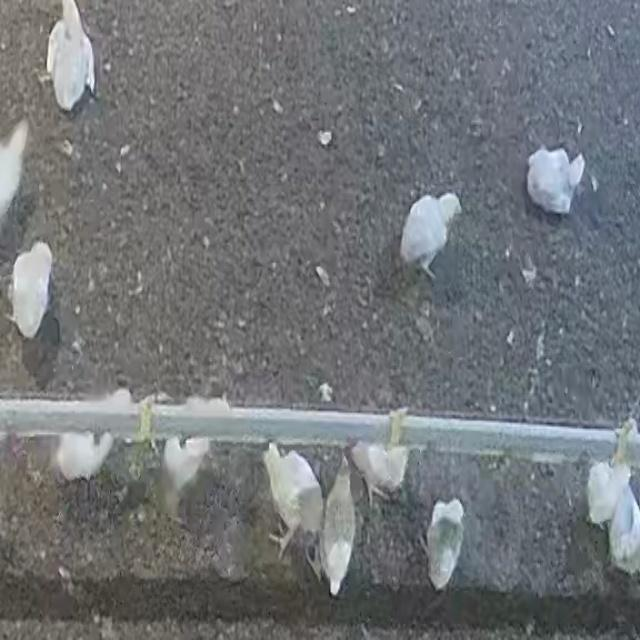chicken: (261, 444, 323, 564), (47, 1, 96, 113), (320, 453, 358, 596), (347, 427, 409, 509), (401, 193, 460, 278), (159, 433, 211, 523), (8, 242, 54, 340), (423, 498, 466, 593), (526, 147, 585, 216), (55, 431, 115, 489), (607, 479, 640, 576), (585, 459, 631, 527)
